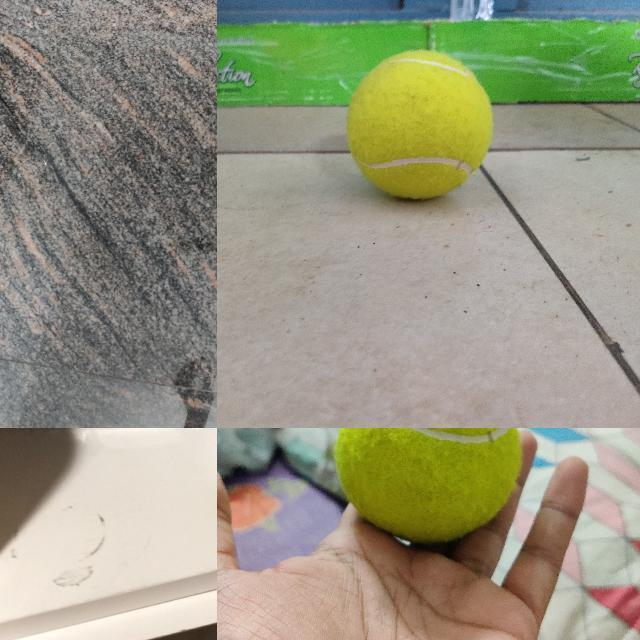tennis-ball: (345, 49, 494, 200), (333, 428, 524, 543)
